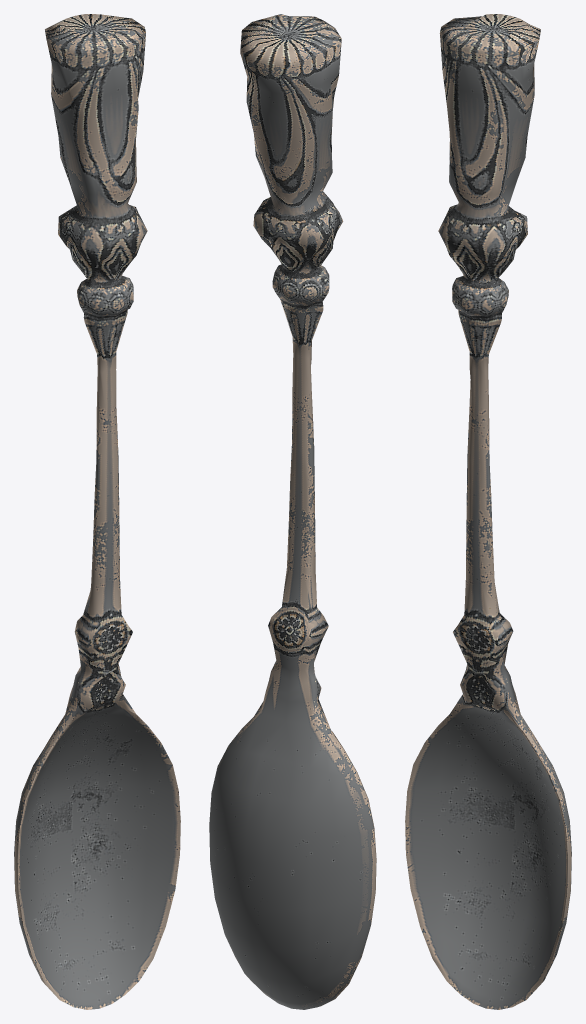
Rendered from Spoon6.fbx.
3 views of the same model, side by side, from view 1: azimuth 30°, elevation 25°; view 2: azimuth 150°, elevation 25°; view 3: azimuth 330°, elevation 25° (orthographic).
Parts seen in each view (by area): view 1: Spoon6; view 2: Spoon6; view 3: Spoon6.
Part boxes in pixels (x1=…): Spoon6: x1=14, y1=14, x2=180, y2=1009; Spoon6: x1=209, y1=14, x2=376, y2=1009; Spoon6: x1=405, y1=14, x2=571, y2=1009.
Size of the model in its own units: 43.29 by 248 by 25.11.
